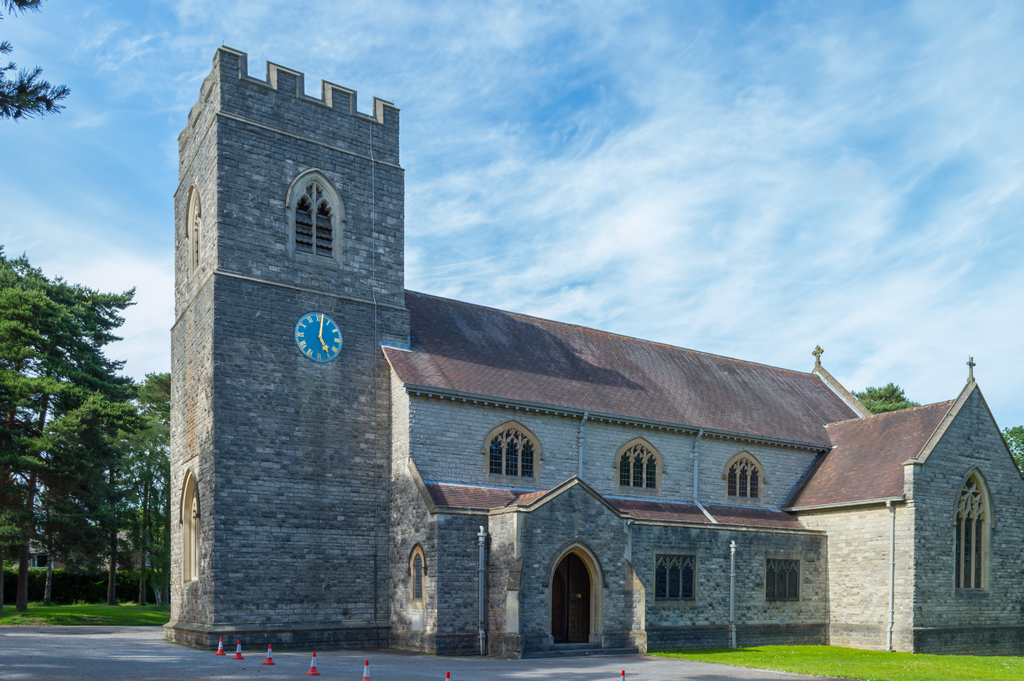Tree: (0, 249, 174, 595)
